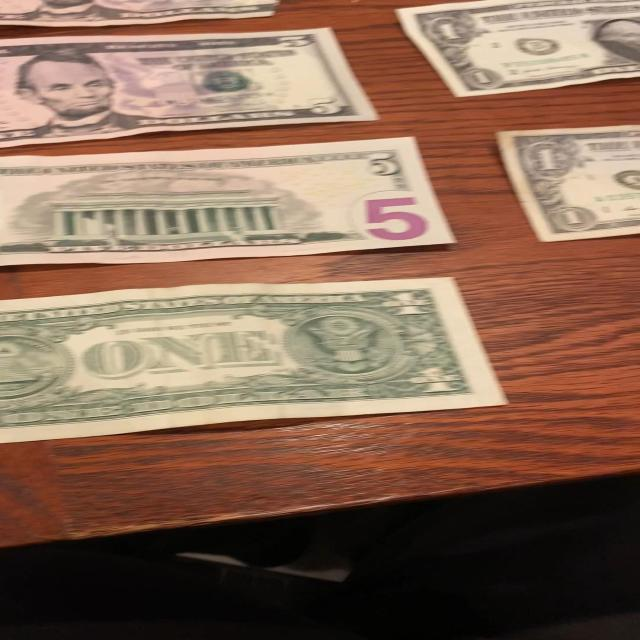1-Back: (0, 272, 516, 443)
1-Front: (386, 0, 640, 126), (492, 116, 640, 250)
5-Back: (0, 129, 457, 267)
5-Front: (0, 13, 386, 146)
